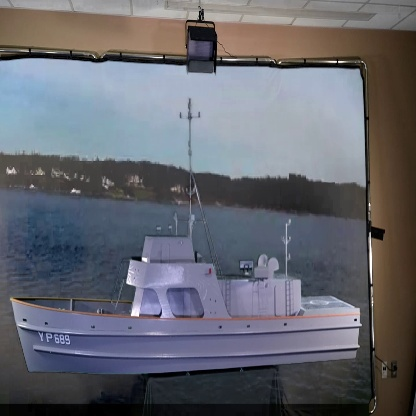YP689: (9, 79, 362, 379)
